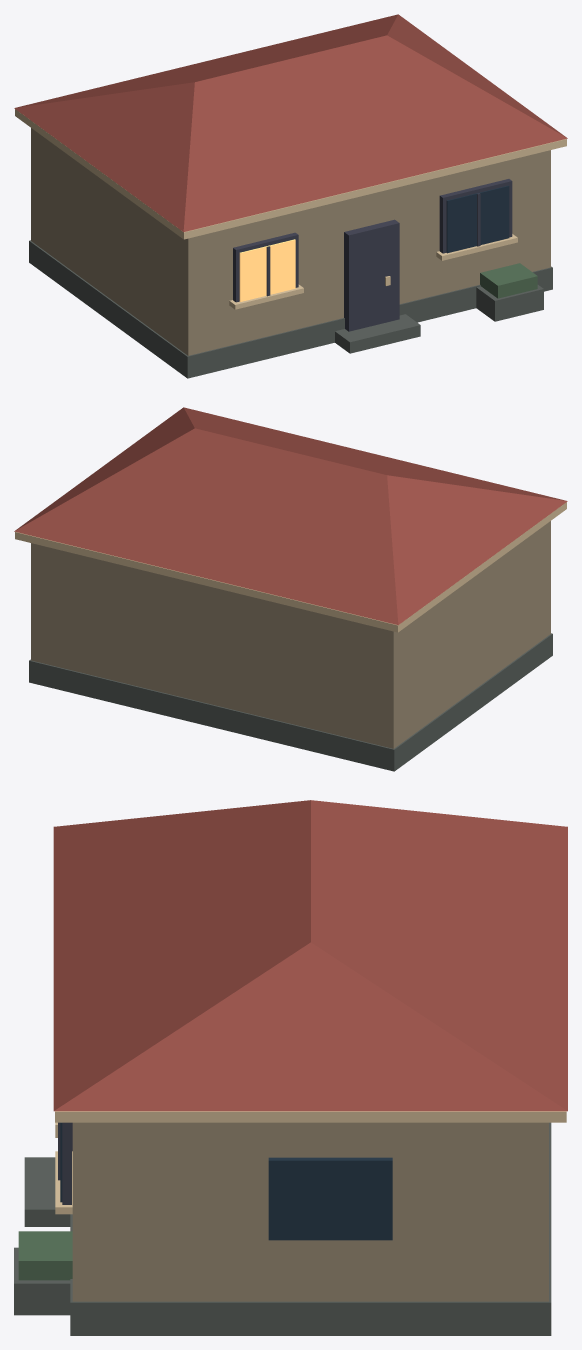
File: casa_terracota.glb
The picture shows the model from 3 angles, top to bottom: view 1: azimuth 30°, elevation 25°; view 2: azimuth 150°, elevation 25°; view 3: azimuth 270°, elevation 25°; orthographic projection. The views are drawn at different scales.
Visible parts, largest first — view 1: casa_terracota; view 2: casa_terracota; view 3: casa_terracota.
Part boxes in pixels (x1,y1,x2,y2): casa_terracota: [14, 14, 567, 378]; casa_terracota: [14, 407, 567, 771]; casa_terracota: [14, 800, 567, 1335].
Size of the model in its own units: 8.48 by 4.58 by 6.98.
